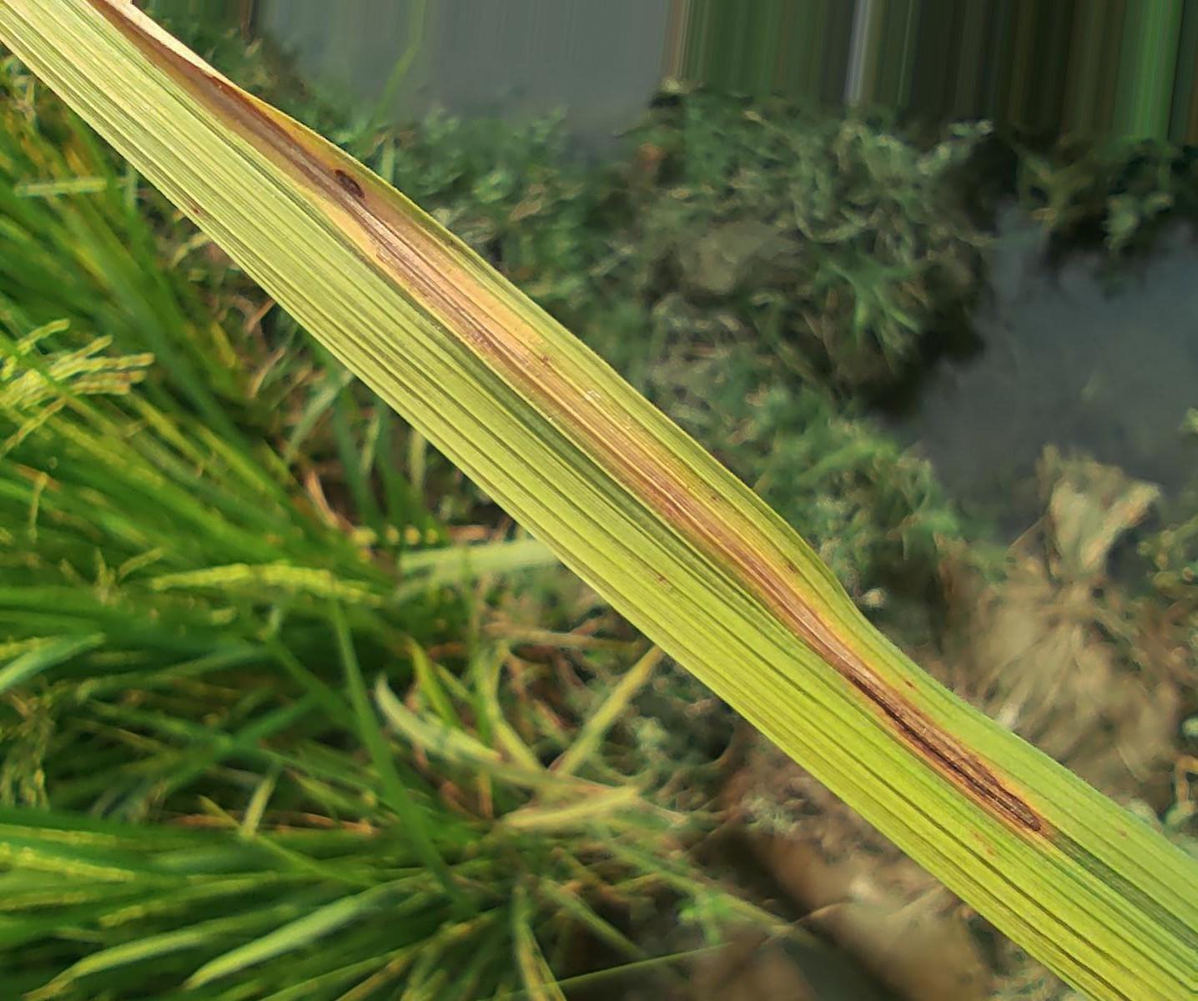LEAF: (0, 0, 1197, 1000)
LEAF BLAST: (813, 641, 1040, 831), (335, 170, 364, 199)
